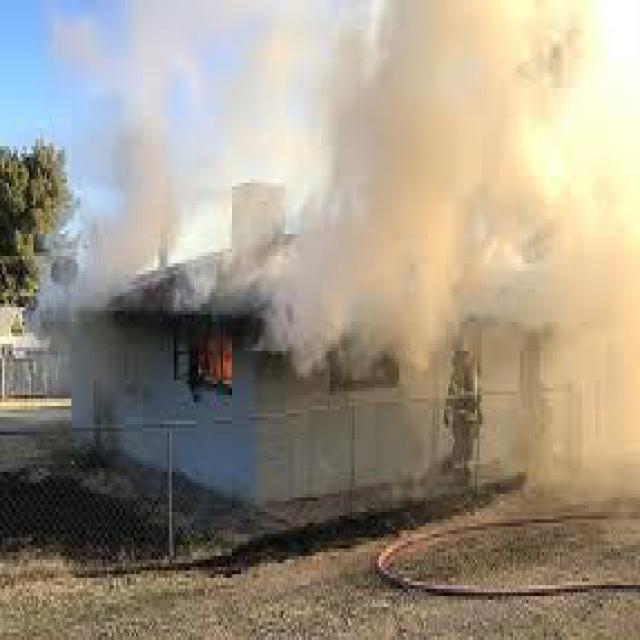fire: (196, 333, 234, 384)
smoke: (263, 4, 638, 351)
